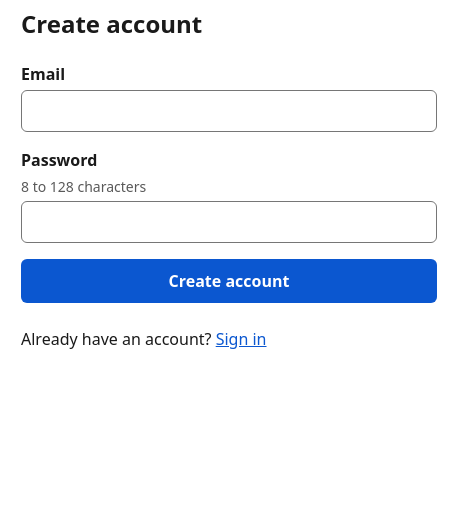
Scenario: RegisterPage › failures › puts a taken email on the email field and does not try to sign in
Type "a@example.com" into the field labelled "Email" at (229, 111), box x1=21 y1=90 x2=437 y2=132
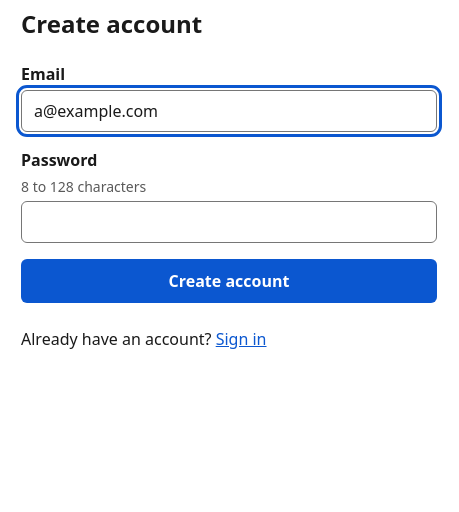
Type "secret-pass" into the password field labelled "Password" at (229, 222), box x1=21 y1=201 x2=437 y2=243
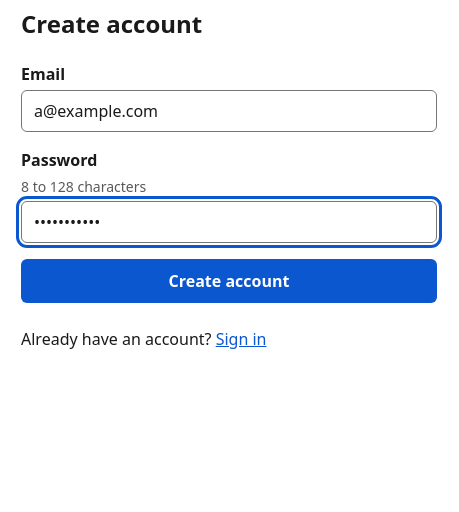
Click the button "Create account" at (229, 281), box x1=21 y1=259 x2=437 y2=303
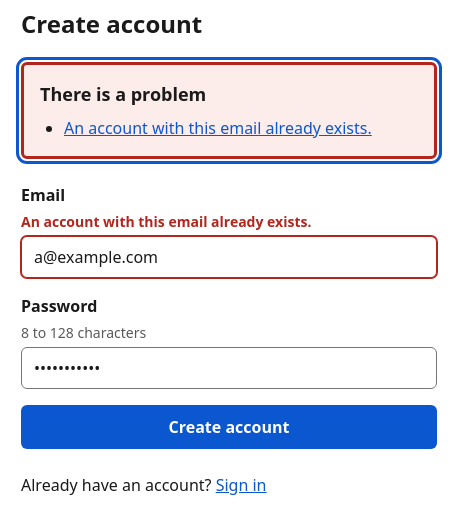
Check: the element "There is a problem" does not show "Server wording", box x1=21 y1=62 x2=437 y2=159
Check: the element "There is a problem" shows "An account with this email already exists.", box x1=64 y1=117 x2=372 y2=139
